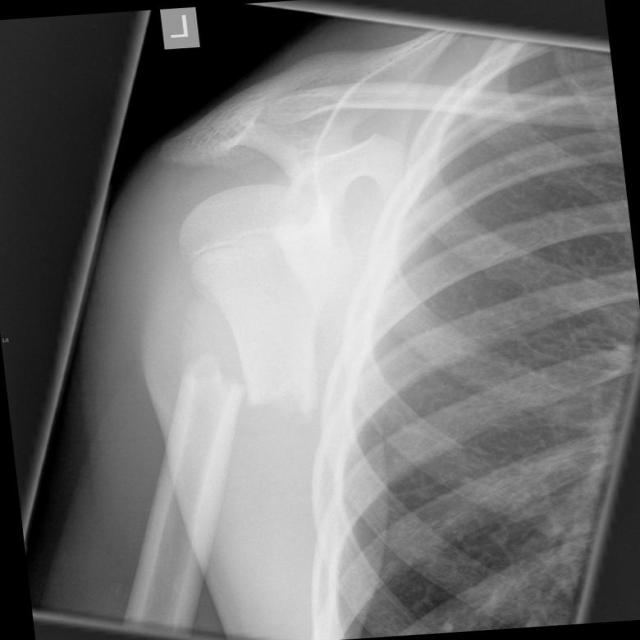Transverse: (152, 322, 340, 449)
